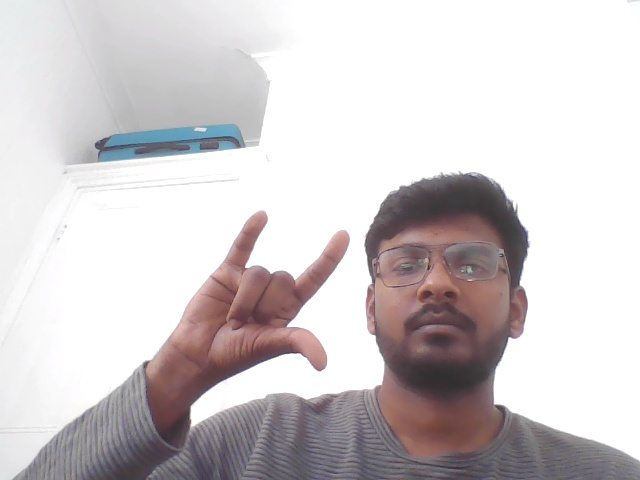ILoveYou: (132, 188, 363, 413)
